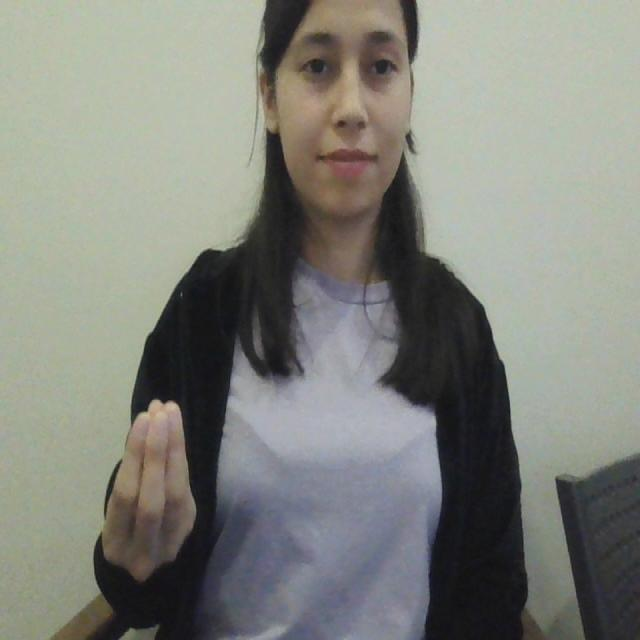iyi: (96, 388, 210, 588)
